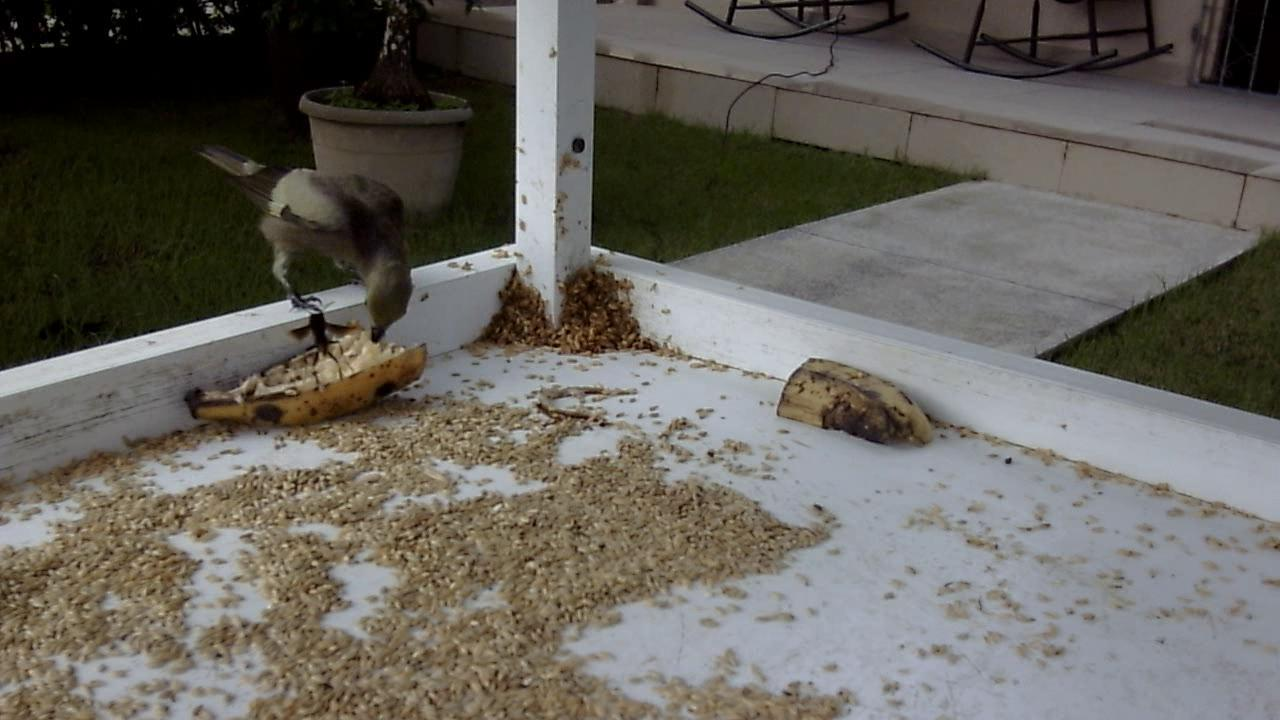sanhaco_do_coqueiro: (184, 130, 420, 371)
